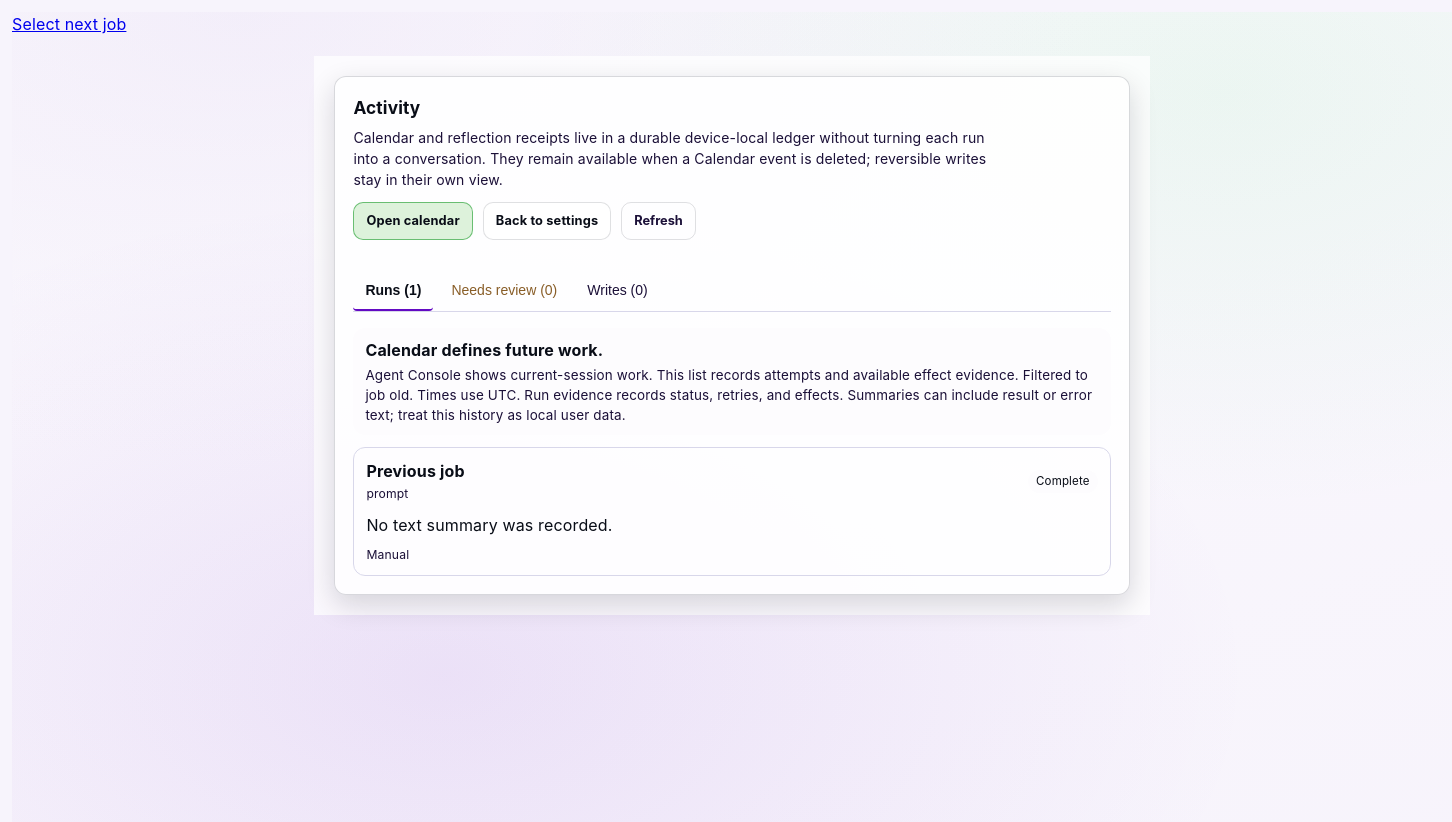
Test: WriteHistoryPage › clears the previous job's rows while the next job is loading
Check: the text "Previous job" is shown, box [366,459,465,483]
Click the link "Select next job" at (69, 24), box [12,14,126,34]
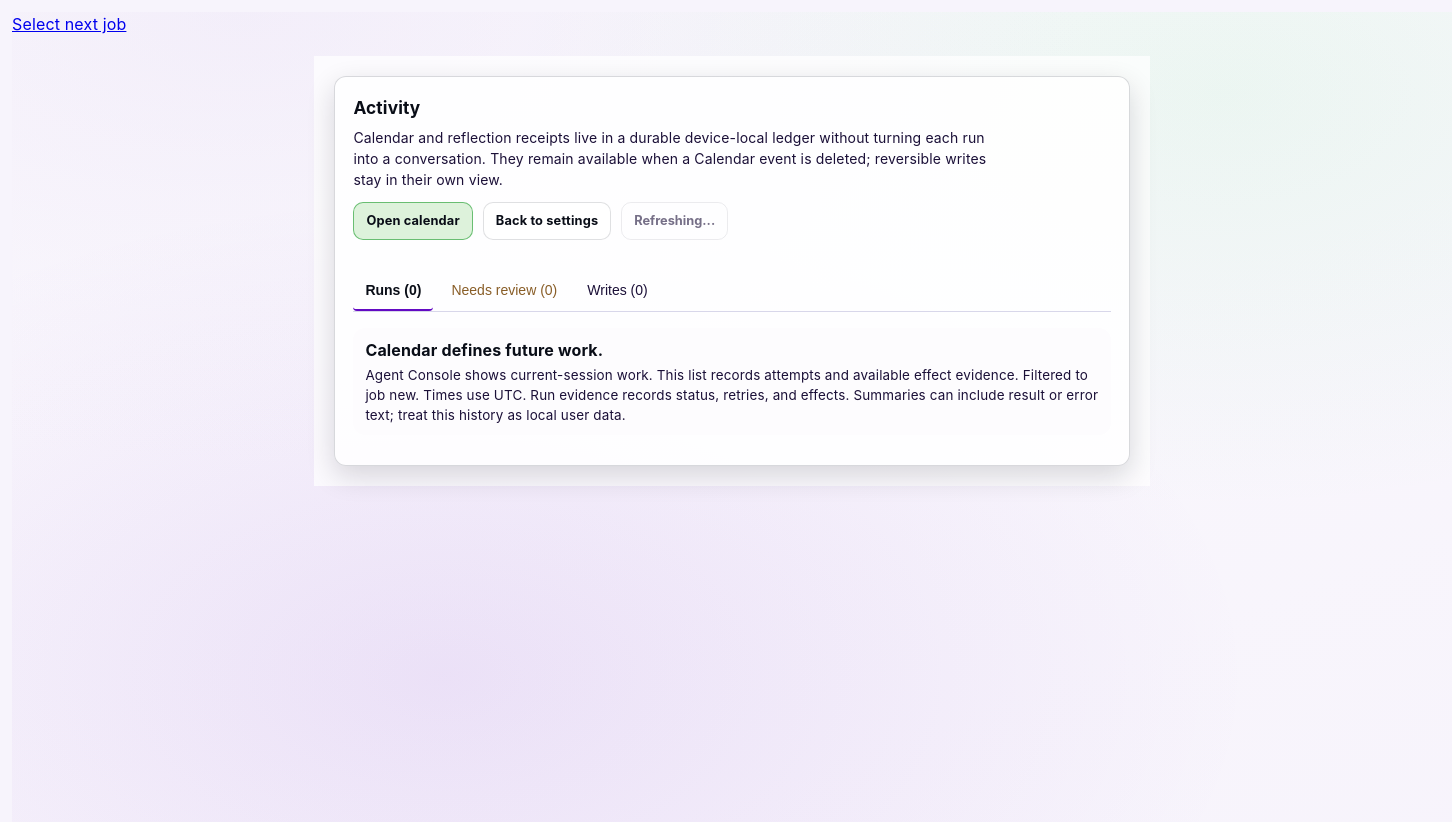
Check: the text "Previous job" is gone
Check: the button "Refreshing..." is disabled, box [621,202,728,240]
